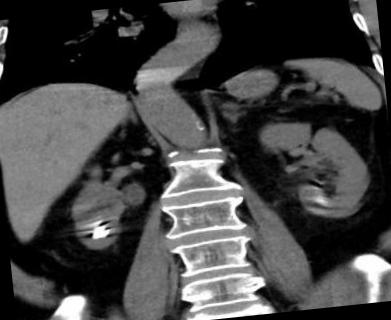Tas_Var: (89, 221, 115, 239), (96, 228, 110, 238)
